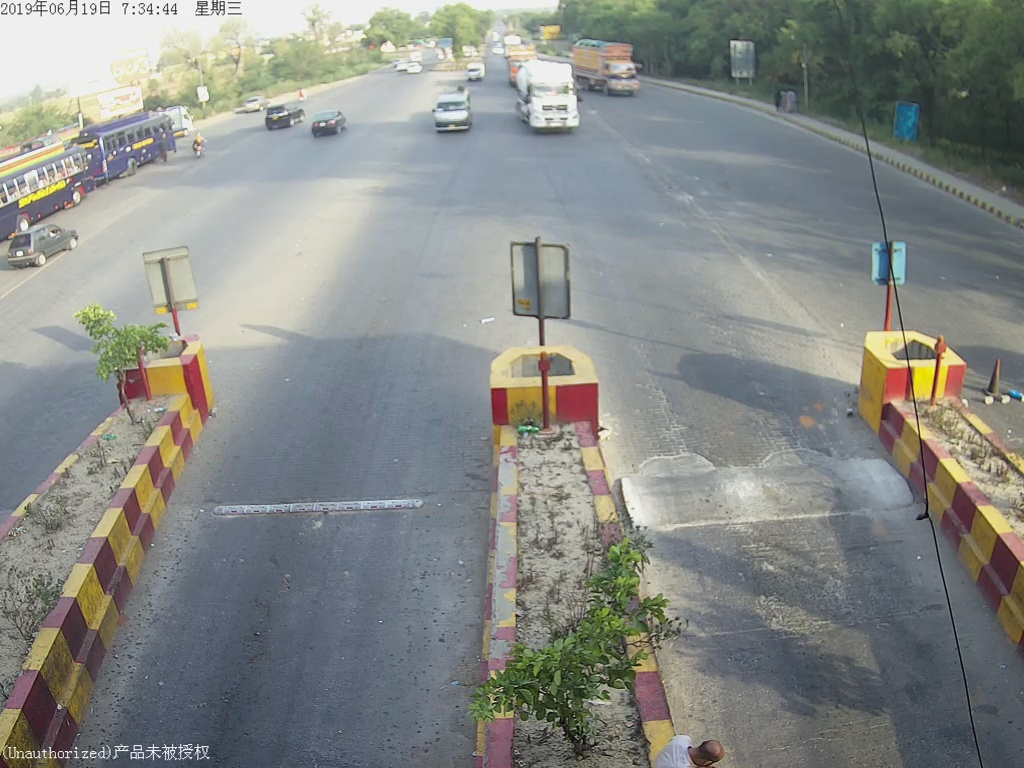Cat-2: (424, 95, 482, 137)
